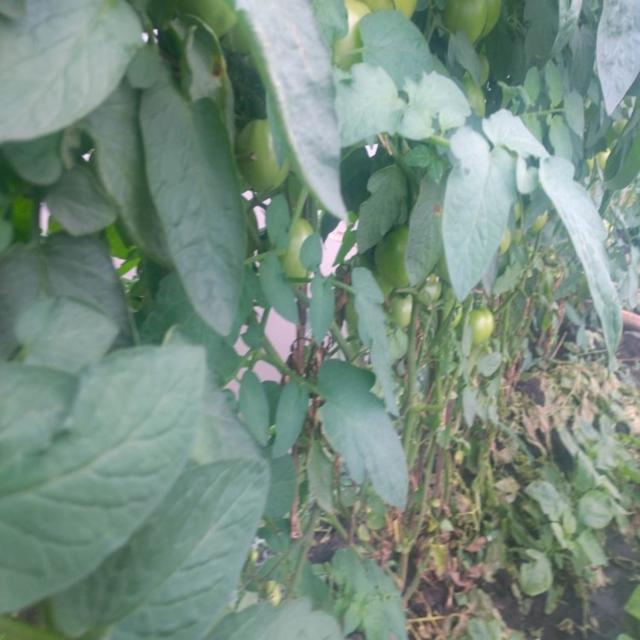tomato: (237, 114, 288, 194), (335, 4, 371, 68), (378, 226, 412, 292), (446, 5, 504, 43), (281, 218, 312, 279), (377, 1, 424, 25), (392, 293, 416, 328), (473, 306, 495, 341), (476, 53, 496, 90), (529, 211, 550, 233), (425, 279, 444, 296), (499, 229, 510, 257)
